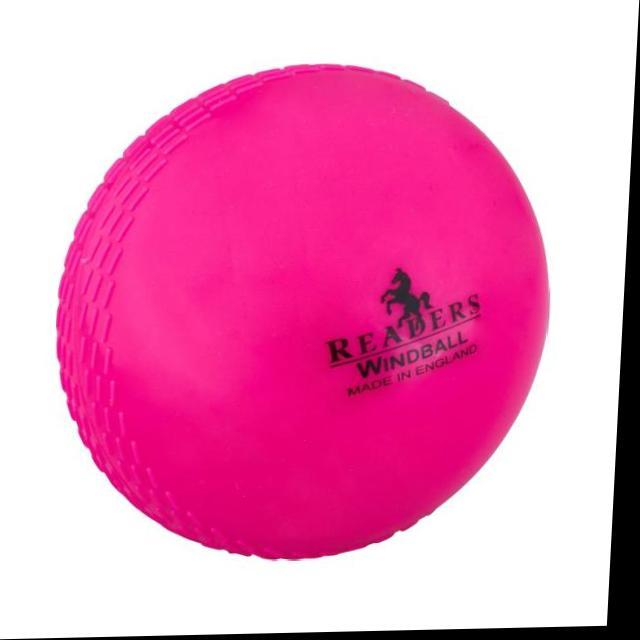cricket ball: (60, 65, 553, 562)
